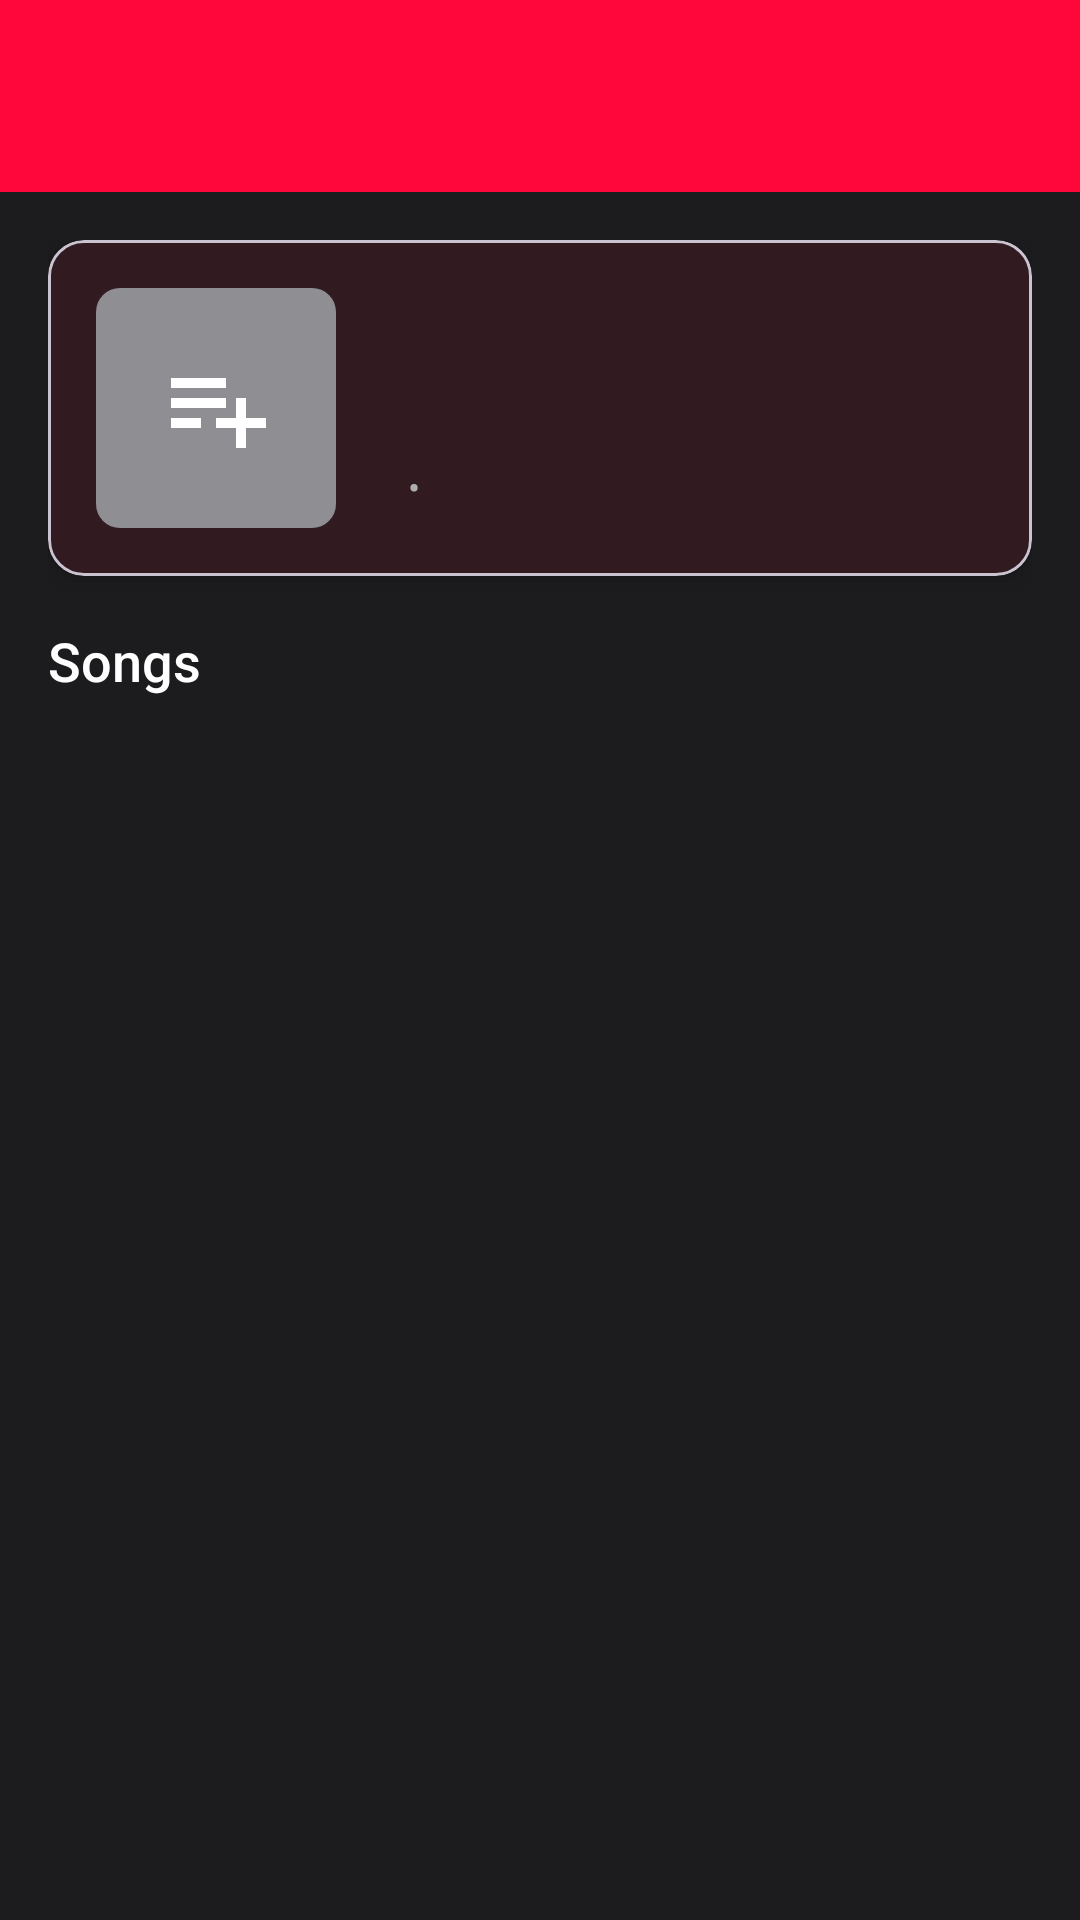

Where icons sit on this 1080px×1920px app screen, as (x1, y1, x2, y2):
Playlist icon: (96, 288, 336, 528)
